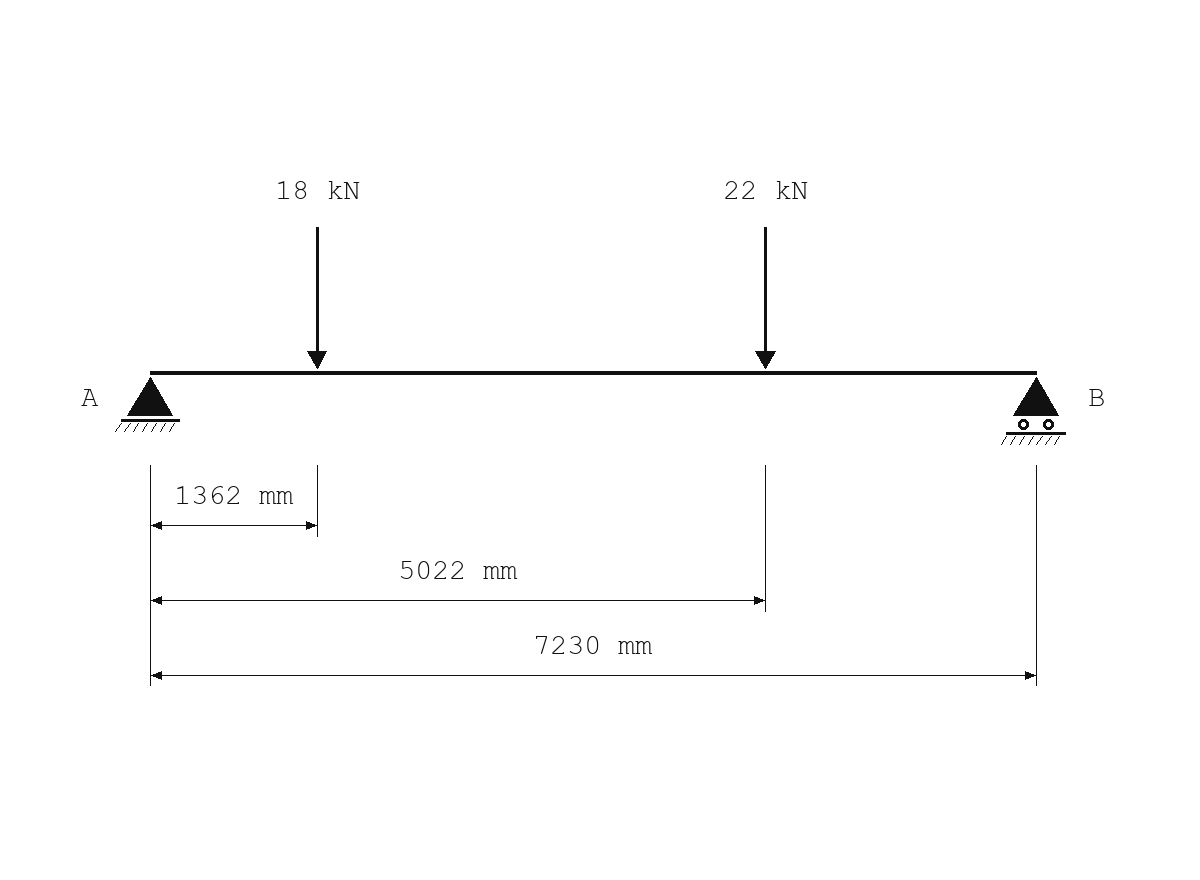pin_support: (115, 377, 180, 432)
point_load: (755, 227, 776, 369), (307, 227, 327, 369)
roller_support: (1001, 377, 1066, 445)
